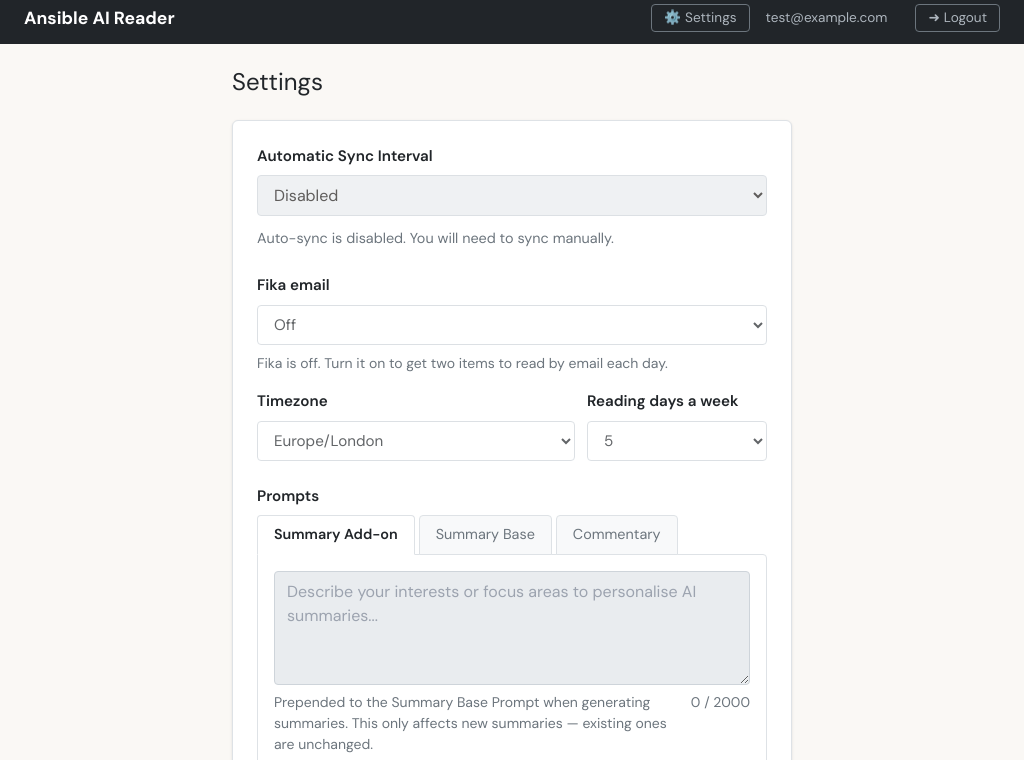
Test case: SettingsContent › switches to Commentary tab and shows commentary system message
Click the tab "Commentary". click: (617, 535)
box: 556,515 -> 678,555
(page scrolled)
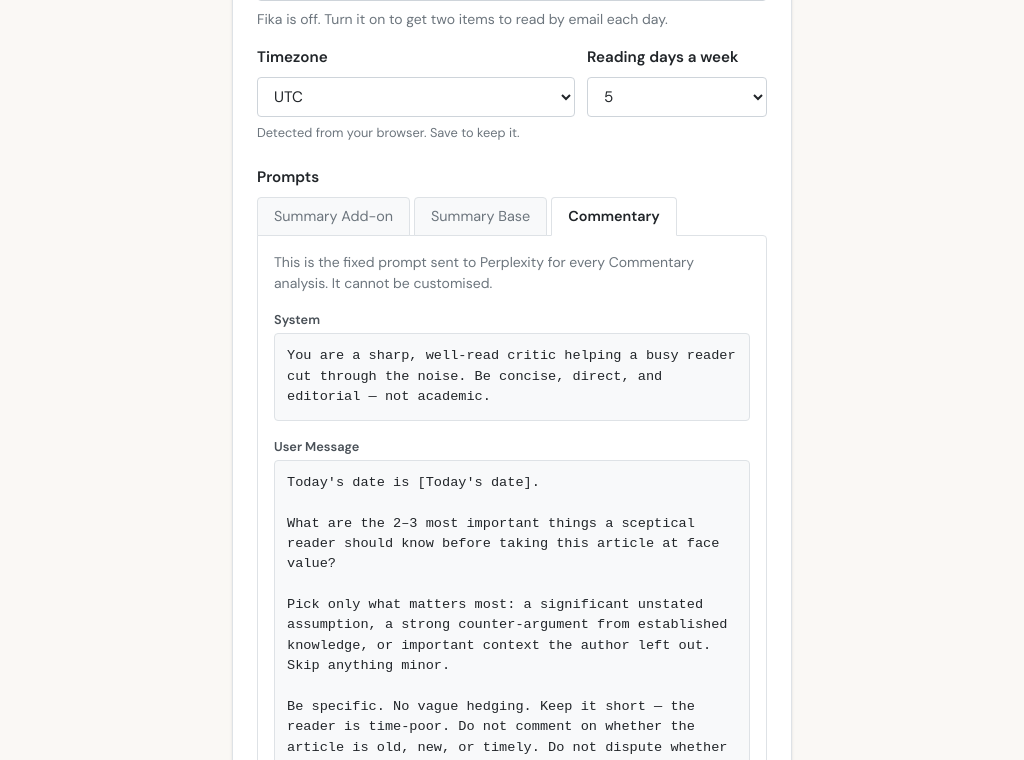
Result: the text "sharp, well-read critic" is shown at 287,348 -> 744,404
